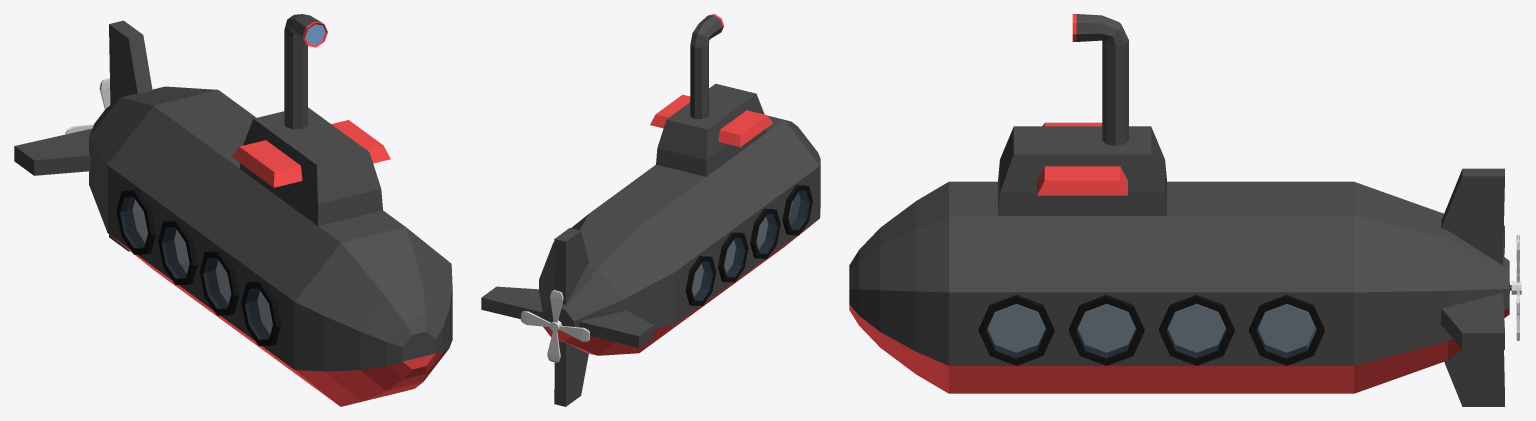
File: submarine.glb
3 views of the same model, side by side, from view 1: azimuth 30°, elevation 25°; view 2: azimuth 150°, elevation 25°; view 3: azimuth 270°, elevation 25° (orthographic). The views are drawn at different scales.
Parts seen in each view (by area): view 1: Sub.001, SubWindows, Periscope, Cube.008, Cube.010, Propeller; view 2: Sub.001, SubWindows, Cube.008, Cube.010, Periscope, Propeller; view 3: Sub.001, SubWindows, Cube.008, Periscope, Cube.010.
Boxes of the visible parts, left/top/right/bottom form: Sub.001: left=89, top=86, right=452, bottom=406; SubWindows: left=116, top=190, right=280, bottom=345; Periscope: left=284, top=14, right=327, bottom=129; Cube.008: left=109, top=20, right=152, bottom=251; Cube.010: left=14, top=128, right=92, bottom=175; Propeller: left=65, top=78, right=110, bottom=134; Sub.001: left=539, top=83, right=820, bottom=355; SubWindows: left=685, top=185, right=812, bottom=305; Cube.008: left=554, top=228, right=588, bottom=406; Cube.010: left=481, top=286, right=654, bottom=347; Periscope: left=690, top=14, right=723, bottom=119; Propeller: left=520, top=290, right=589, bottom=362; Sub.001: left=849, top=122, right=1511, bottom=393; SubWindows: left=978, top=295, right=1324, bottom=365; Cube.008: left=1441, top=168, right=1504, bottom=406; Periscope: left=1072, top=14, right=1128, bottom=145; Cube.010: left=1441, top=225, right=1504, bottom=349.
Bounding box in the file's own units: 3.36 × 5.65 × 8.87.
